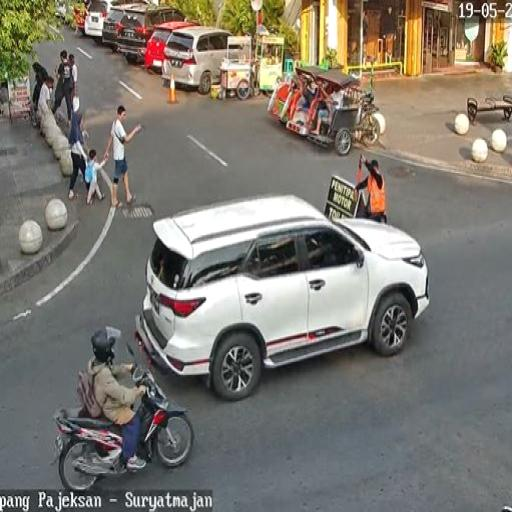mobil: (145, 197, 429, 392), (116, 1, 188, 68), (166, 23, 236, 87), (146, 18, 194, 70)
motor: (55, 359, 194, 489)
